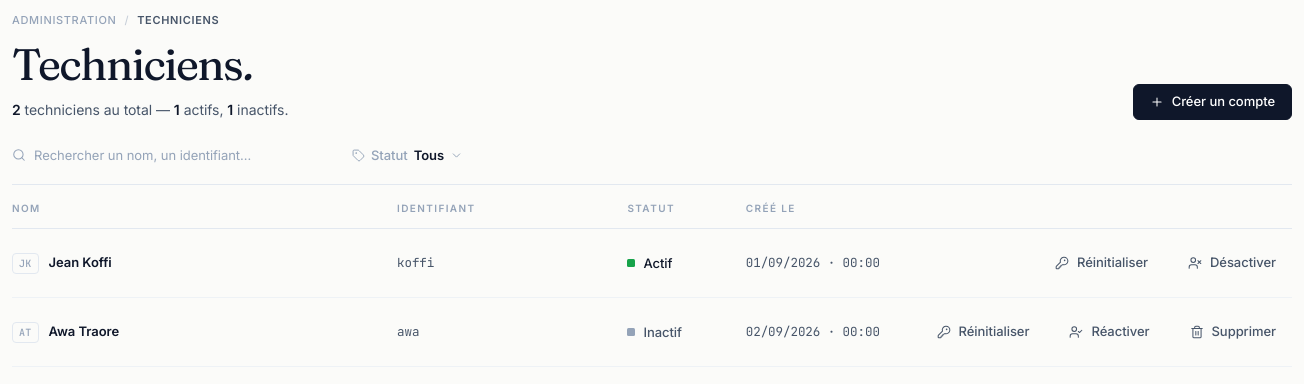
Test: TechniciensListe › filtre par recherche (nom ou identifiant) et reinitialise
Check: the text "Jean Koffi" is shown, box [48, 253, 112, 273]
Type "awa" into the field named "Rechercher un technicien".
click(183, 155); type("awa")  # box [34, 146, 332, 165]
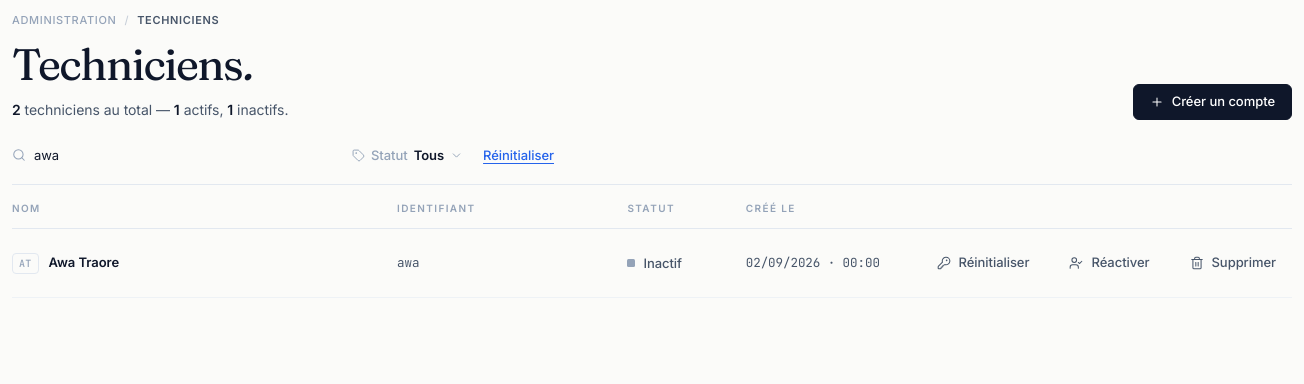
Check: the text "Awa Traore" is shown, box [48, 253, 119, 273]
Check: the text "Jean Koffi" is gone
Click the button with aria-label "Réinitialiser les filtres".
click(519, 156)  # box [483, 146, 554, 166]
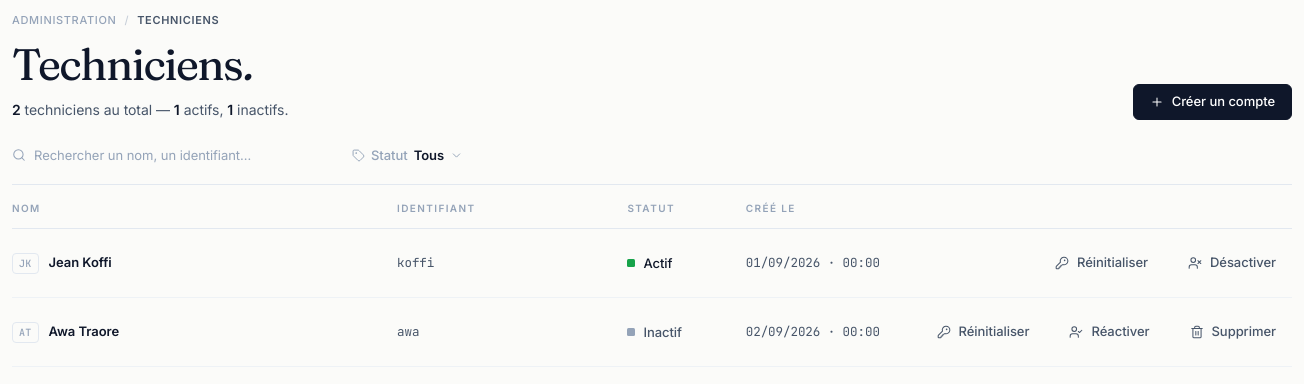
Check: the text "Awa Traore" is shown, box [48, 322, 119, 342]
Check: the text "Jean Koffi" is shown, box [48, 253, 112, 273]
